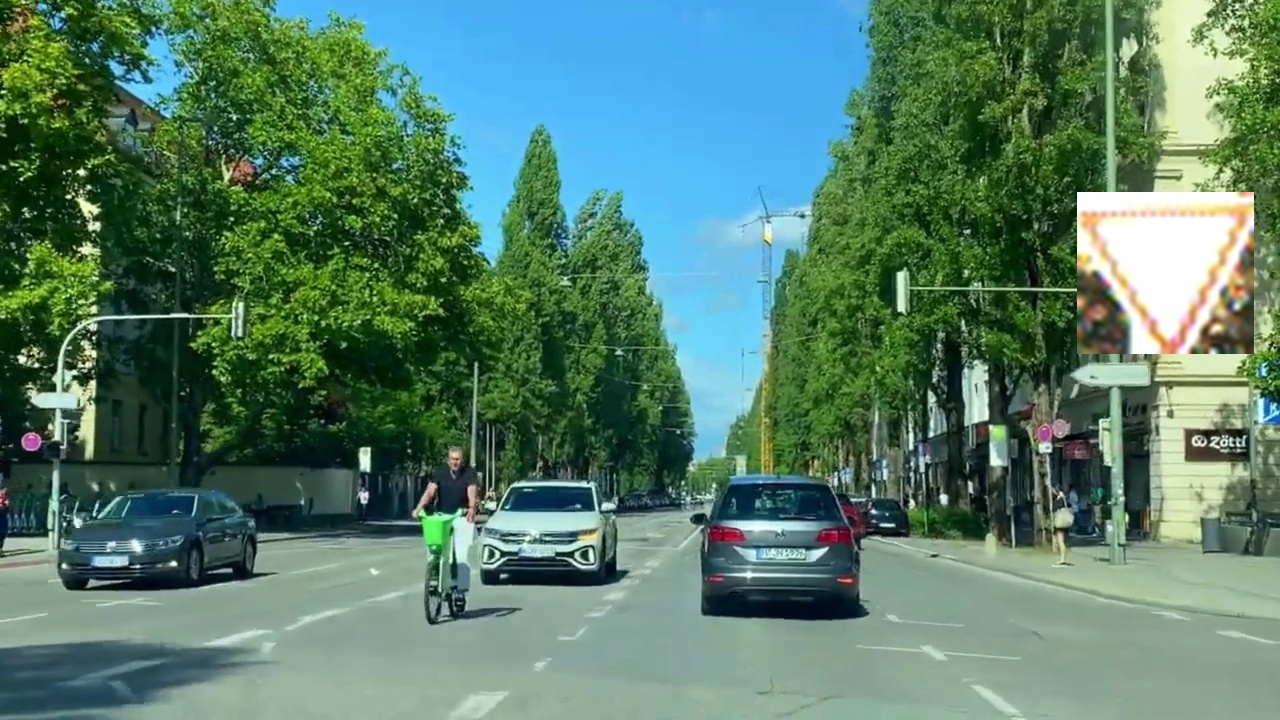Yield: (1077, 192, 1254, 354)
